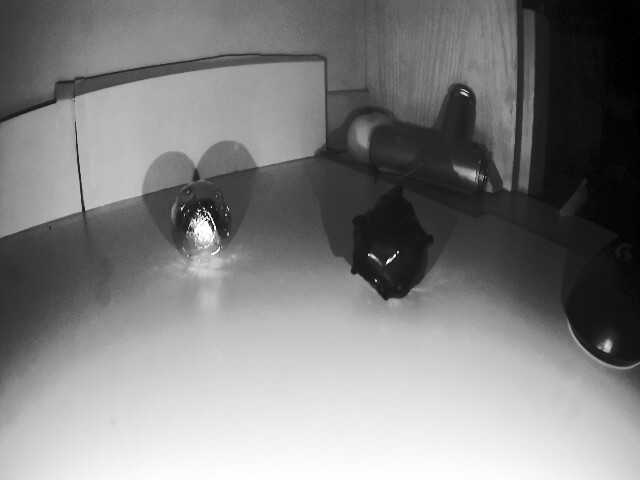black: (354, 189, 437, 307)
silver: (174, 180, 230, 279)
